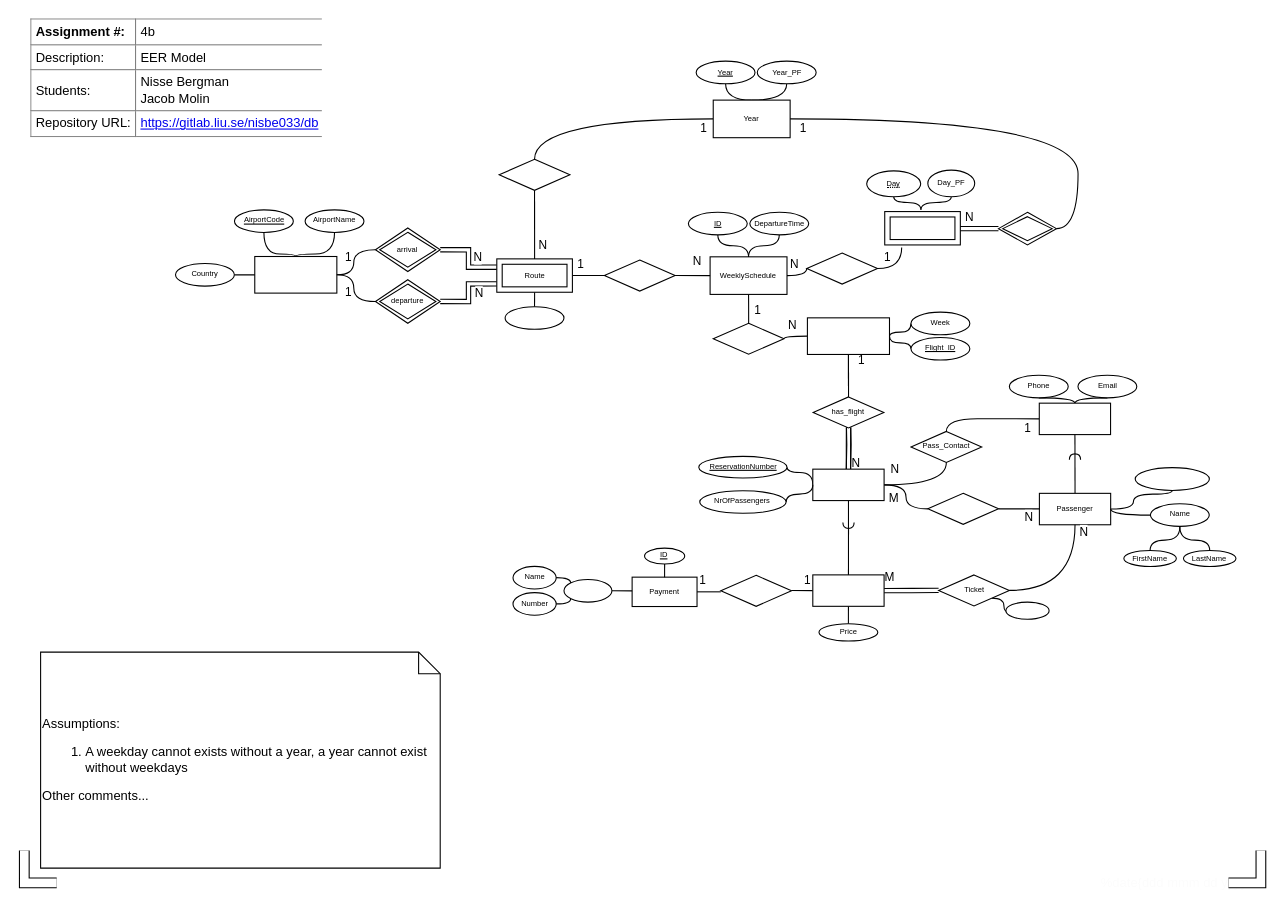
The diagram is 1285 pixels wide and 922 high, and some of its shapes have lost their labels. Each missing label, with the centre of its shape:
Airport: pixel 295 274
Booking: pixel 848 590
by_schedule: pixel 639 275
Contact: pixel 1074 418
Credit Card: pixel 587 590
Flight: pixel 847 335
has_schedule: pixel 748 338
Pass_Reserv.: pixel 963 508
PassportNumber: pixel 1171 478
payment_for: pixel 756 590
Reservation: pixel 848 484
RoutePrice: pixel 534 317
RouteYear: pixel 534 174
TicketNr: pixel 1027 610
week_year: pixel 1026 228
Weekday: pixel 922 227
WeeklyFlight: pixel 842 268
